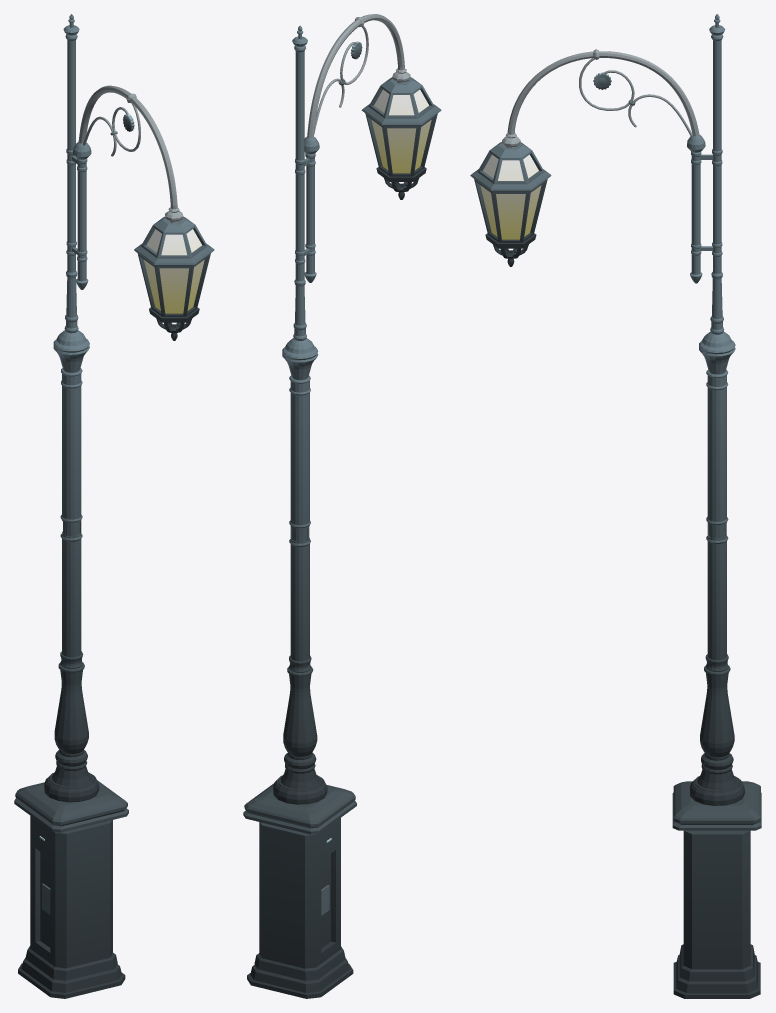
File: Lamp_OneSided_Orig.fbx
3 renders of one model, left to right at view 1: azimuth 30°, elevation 25°; view 2: azimuth 150°, elevation 25°; view 3: azimuth 270°, elevation 25°, orthographic.
Visible parts, largest first — view 1: Cube.064; view 2: Cube.064; view 3: Cube.064.
Boxes of the visible parts, box(x1,y1,x2,y2) form: Cube.064: box(14, 14, 214, 998); Cube.064: box(243, 14, 441, 998); Cube.064: box(470, 14, 761, 998).
Size of the model in its own units: 71.11 by 852 by 233.
